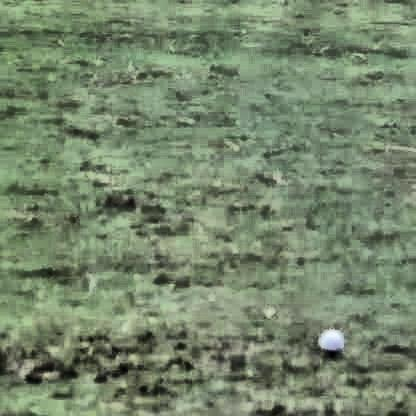golfball: (315, 327, 341, 353)
